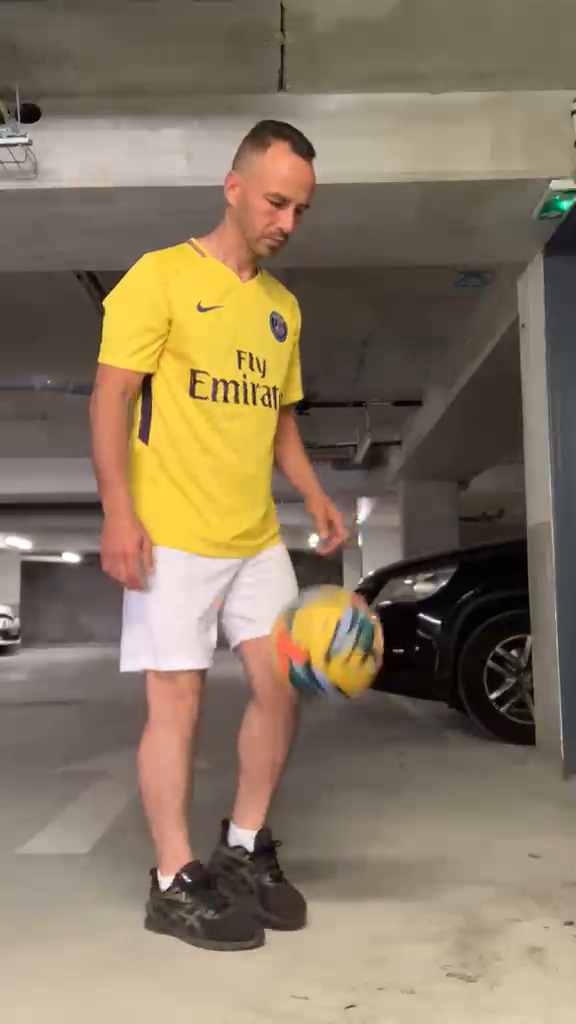ball: (270, 584, 385, 699)
